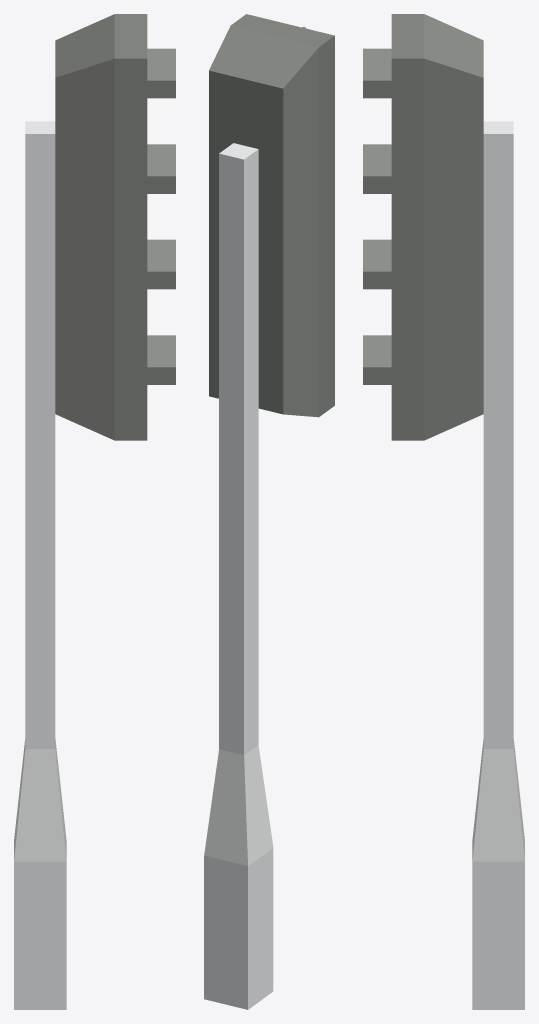
The model's file is lightRed.glb.
3 renders of one model, left to right at view 1: azimuth 90°, elevation 25°; view 2: azimuth 150°, elevation 25°; view 3: azimuth 270°, elevation 25°, orthographic. The views are drawn at different scales.
Visible parts, largest first — view 1: lightRed(Clone); view 2: lightRed(Clone); view 3: lightRed(Clone).
Part boxes in pixels (bbox=[...]): lightRed(Clone): bbox=[14, 14, 175, 1009]; lightRed(Clone): bbox=[204, 14, 334, 1009]; lightRed(Clone): bbox=[363, 14, 524, 1009].
Size of the model in its own units: 0.0708 by 0.7134 by 0.1087.
Materials: 2 (2 with a texture image).
